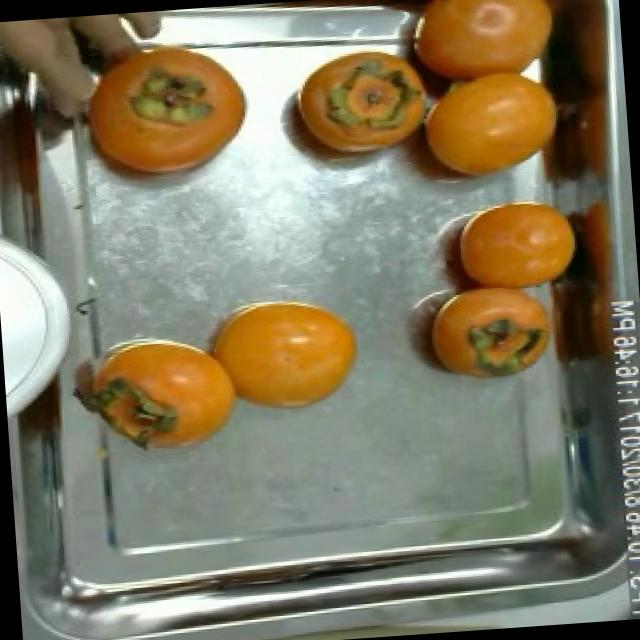Fruit: (50, 39, 268, 206), (59, 316, 253, 472), (264, 39, 451, 183), (399, 51, 582, 198), (194, 290, 368, 424), (426, 187, 592, 306), (415, 274, 558, 391)
